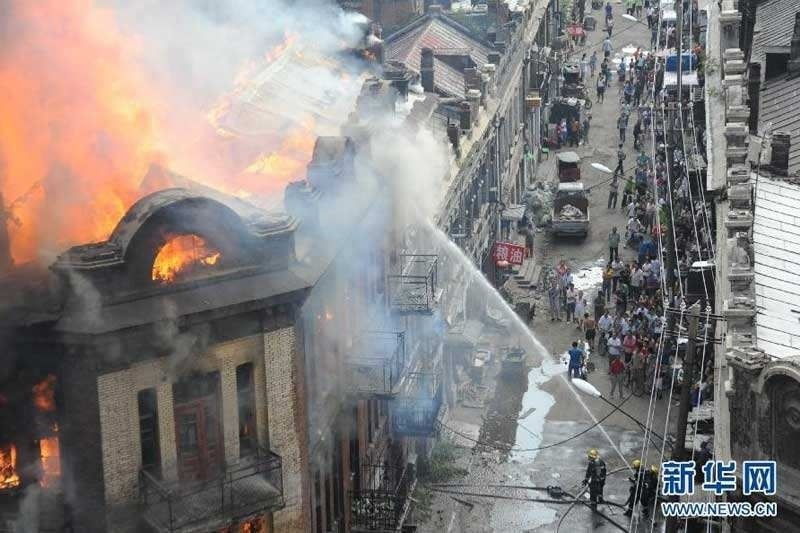fire: (1, 5, 335, 295), (14, 376, 65, 492)
